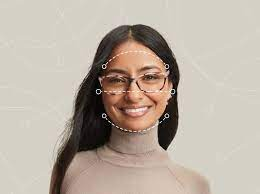g.y: (136, 72, 165, 101)
